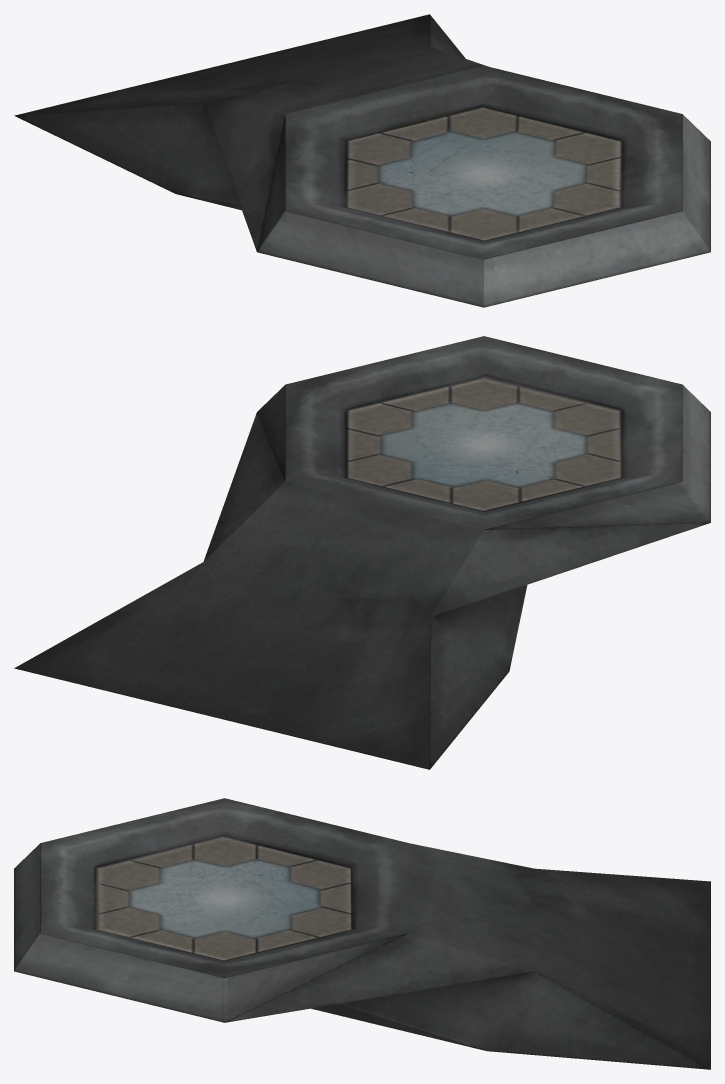
Rendered from Tower_weaponsPlatform_v02.fbx.
3 renders of one model, top to bottom at view 1: azimuth 30°, elevation 25°; view 2: azimuth 150°, elevation 25°; view 3: azimuth 270°, elevation 25°, orthographic. The views are drawn at different scales.
Parts seen in each view (by area): view 1: WeaponsPlatform; view 2: WeaponsPlatform; view 3: WeaponsPlatform.
Boxes of the visible parts, x1,y1,x2,y2 form: WeaponsPlatform: (14,14,710,307); WeaponsPlatform: (14,336,710,769); WeaponsPlatform: (14,798,710,1069).
Bounding box in the file's own units: 2.14 × 0.4245 × 3.06.
